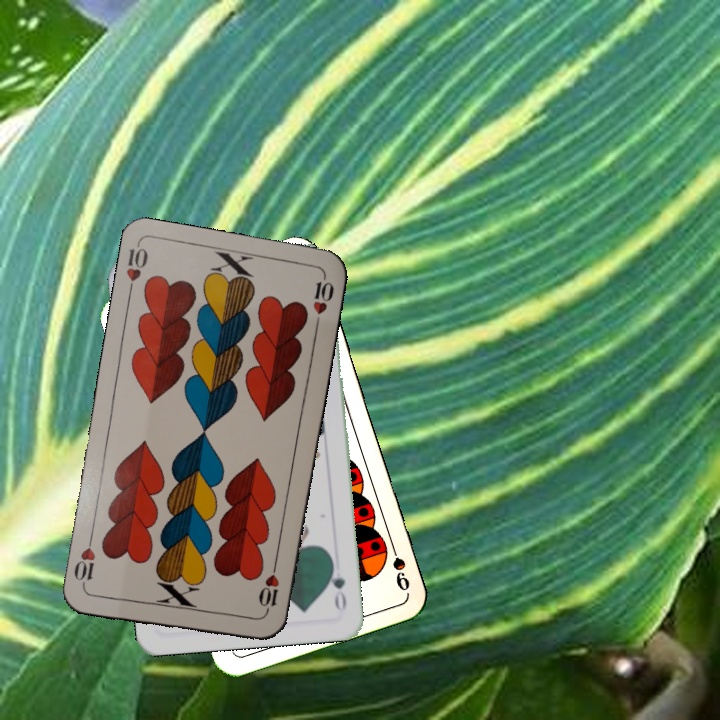GO: (325, 556, 349, 613)
H10: (122, 242, 151, 300), (255, 559, 282, 618)
S9: (385, 536, 413, 594)
